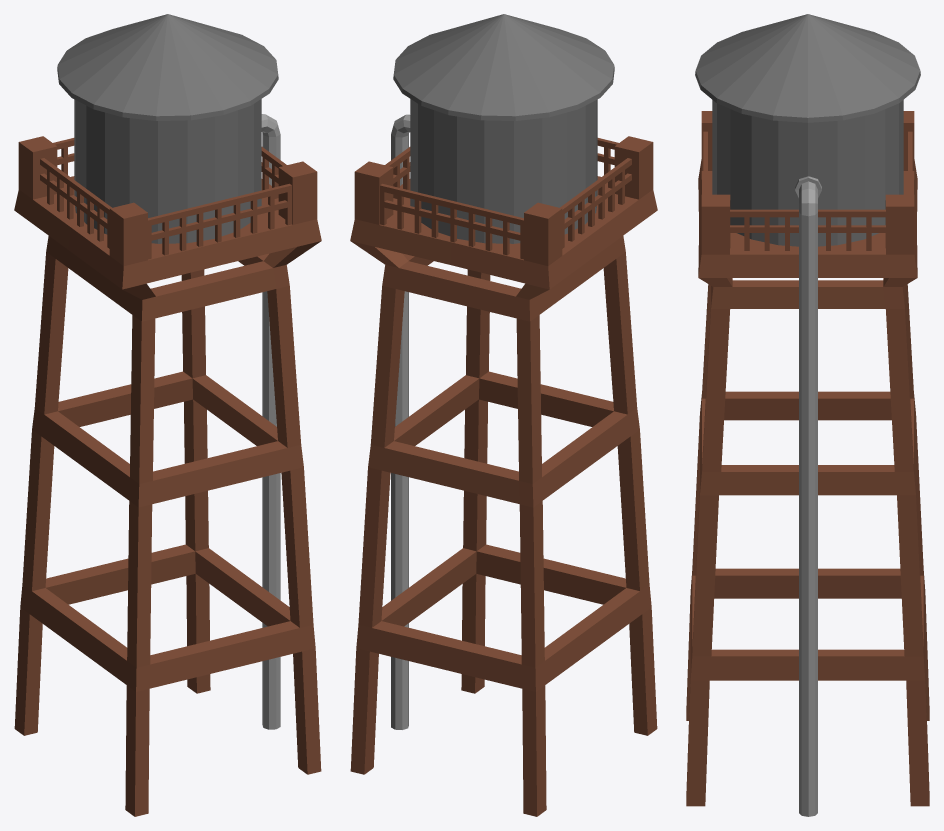
Rendered from watertower.glb.
3 renders of one model, left to right at view 1: azimuth 30°, elevation 25°; view 2: azimuth 150°, elevation 25°; view 3: azimuth 270°, elevation 25°, orthographic.
Visible parts, largest first — view 1: WaterTower_Cube.006; view 2: WaterTower_Cube.006; view 3: WaterTower_Cube.006.
Boxes of the visible parts, x1,y1,x2,y2 form: WaterTower_Cube.006: (14,14,321,816); WaterTower_Cube.006: (350,14,657,816); WaterTower_Cube.006: (686,14,929,816).
Size of the model in its own units: 2.53 by 8.43 by 2.49.
